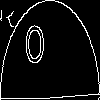O: (25, 25, 45, 73)
